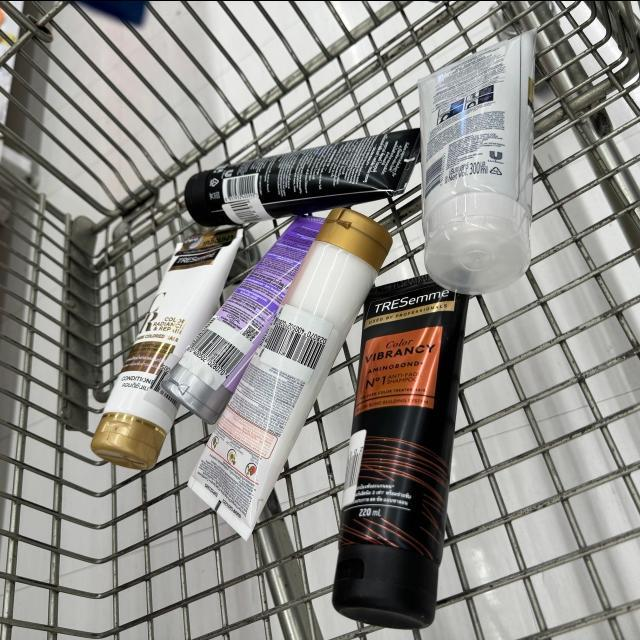Squeeze Tube: (176, 197, 403, 552), (321, 264, 472, 637), (88, 218, 258, 473), (147, 210, 327, 439), (410, 20, 543, 305), (187, 120, 419, 235)
